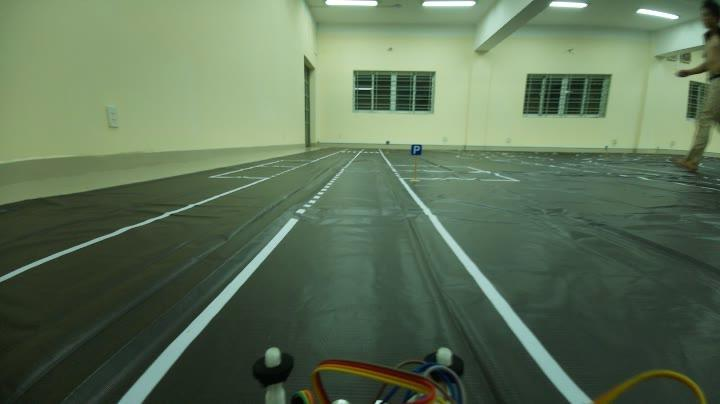parking: (407, 140, 428, 159)
